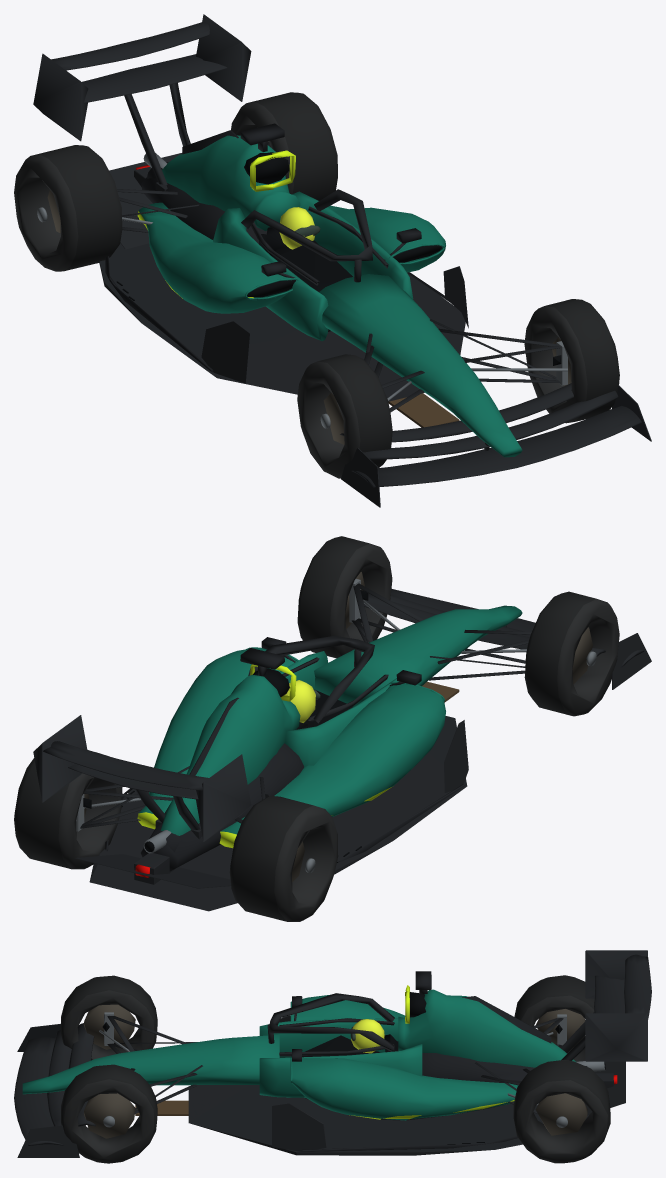
Rendered from amr26-lod3.glb.
The picture shows the model from 3 angles, top to bottom: view 1: azimuth 30°, elevation 25°; view 2: azimuth 150°, elevation 25°; view 3: azimuth 270°, elevation 25°; orthographic projection. The views are drawn at different scales.
Visible parts, largest first — view 1: L3_Chassis, L3_Wheel_RL, L3_Wheel_FL, L3_Wheel_FR, L3_Wheel_RR; view 2: L3_Chassis, L3_Wheel_RL, L3_Wheel_FL, L3_Wheel_RR, L3_Wheel_FR; view 3: L3_Chassis, L3_Wheel_RR, L3_Wheel_FR, L3_Wheel_FL, L3_Wheel_RL.
Part boxes in pixels (x1,y1,x2,y2): L3_Chassis: [33, 14, 651, 507]; L3_Wheel_RL: [14, 145, 122, 271]; L3_Wheel_FL: [297, 354, 392, 478]; L3_Wheel_FR: [524, 299, 619, 423]; L3_Wheel_RR: [231, 92, 337, 200]; L3_Chassis: [33, 572, 651, 911]; L3_Wheel_RL: [229, 796, 338, 921]; L3_Wheel_FL: [524, 591, 619, 716]; L3_Wheel_RR: [14, 752, 122, 869]; L3_Wheel_FR: [297, 536, 392, 658]; L3_Chassis: [14, 950, 651, 1157]; L3_Wheel_RR: [513, 1059, 610, 1163]; L3_Wheel_FR: [61, 1064, 157, 1163]; L3_Wheel_FL: [61, 975, 157, 1060]; L3_Wheel_RL: [514, 975, 594, 1061].
Size of the model in its own units: 1.9 by 1.13 by 4.79.
